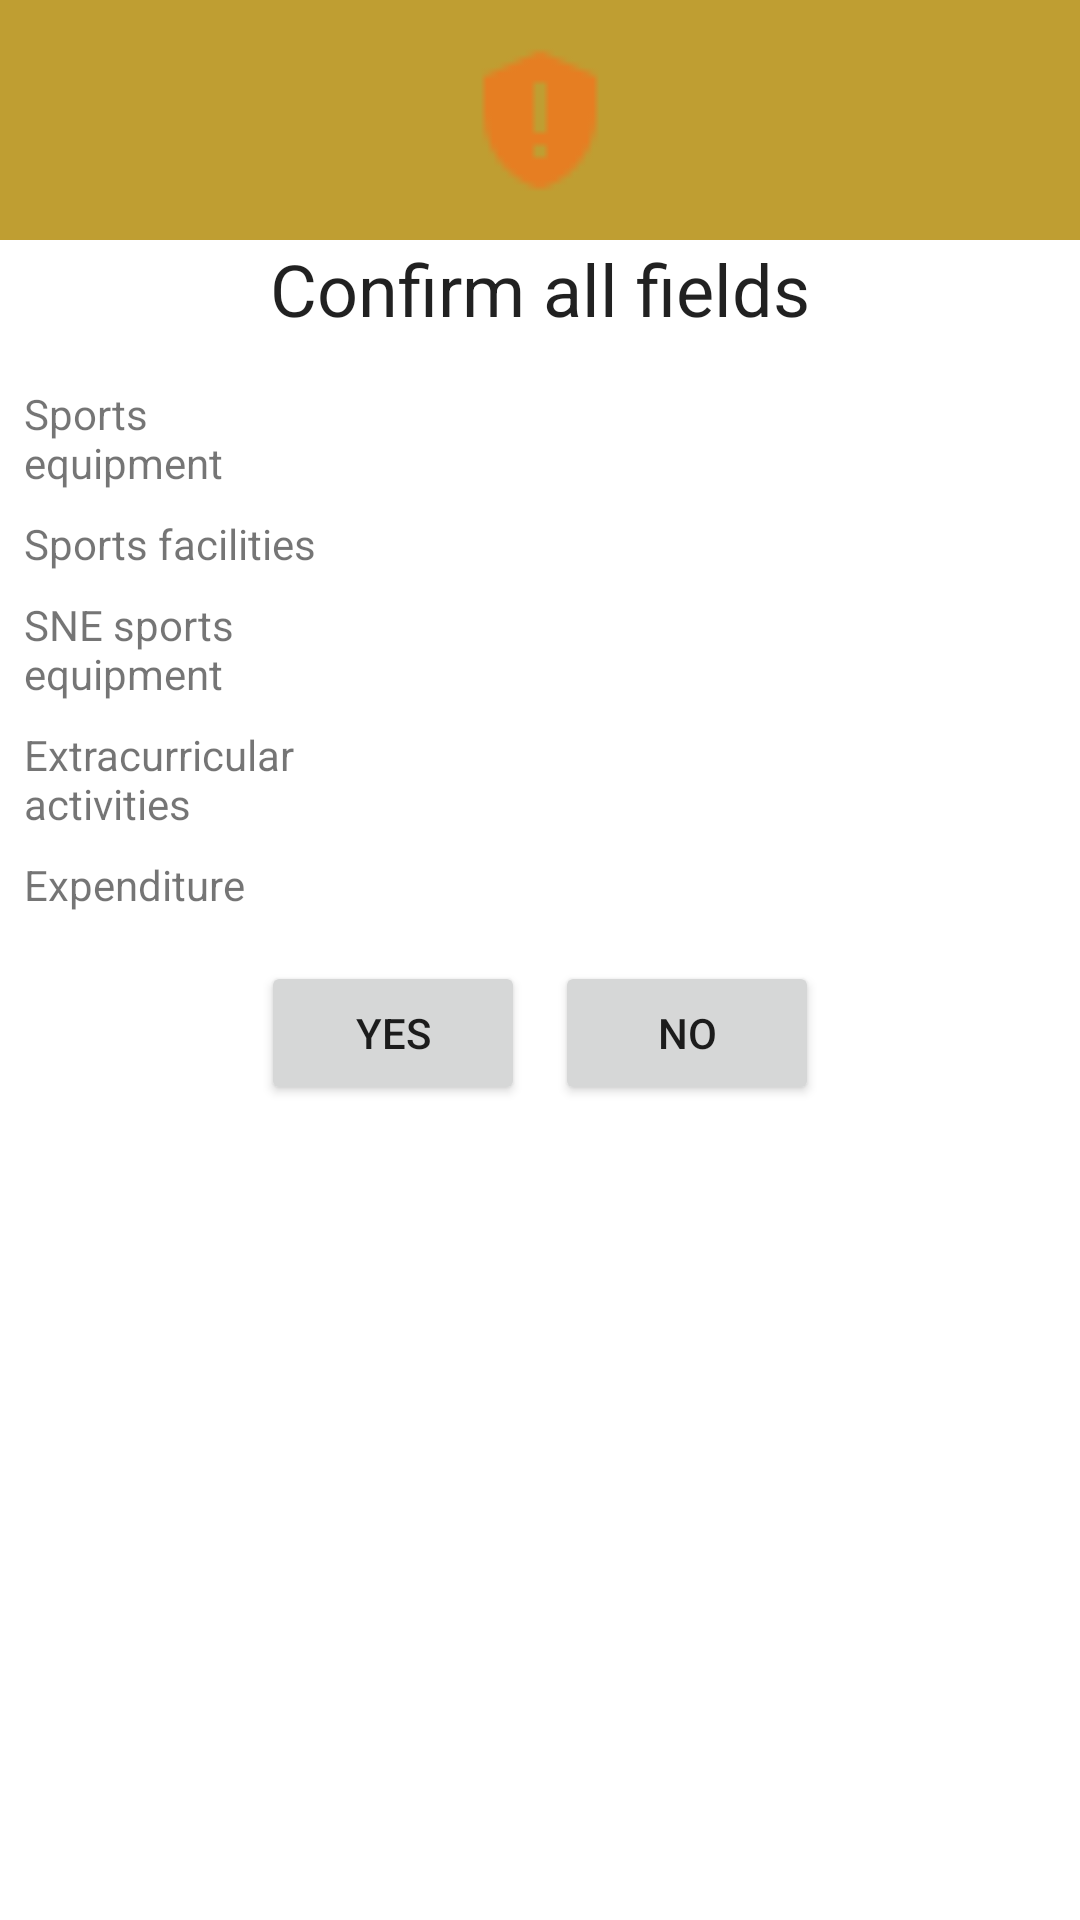

Screen size 1080 × 1920. Icon name, then its center in pixels as (x,y):
warning: (540,120)
